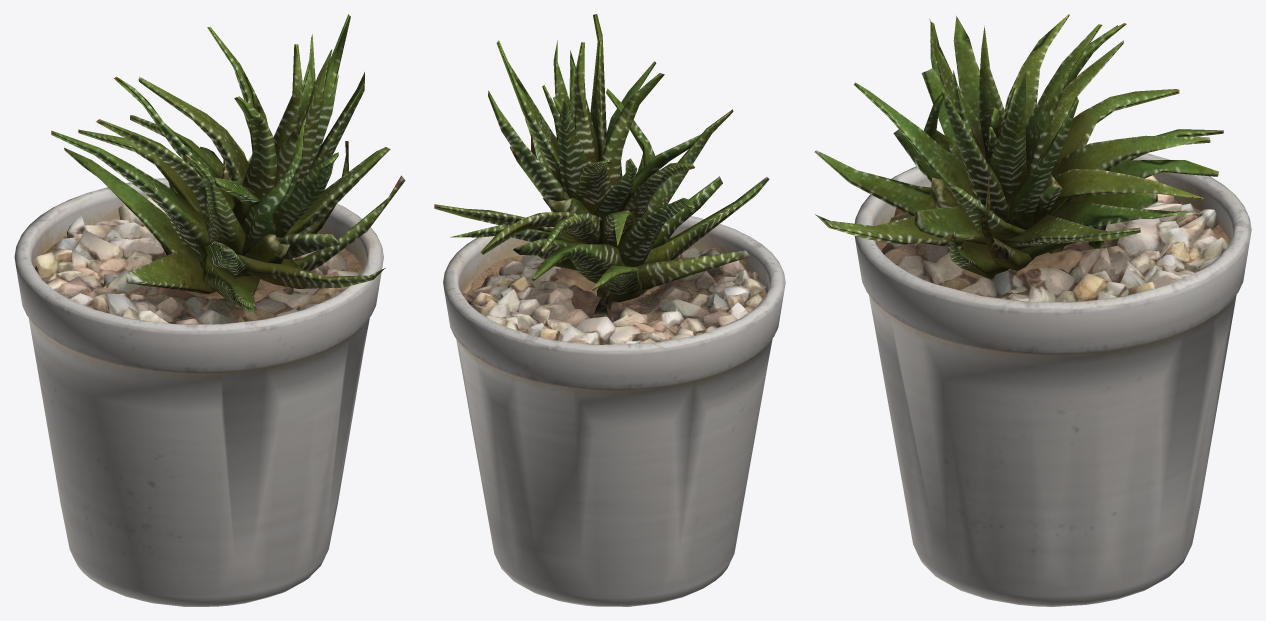
File: ph-potted-plant-04-lite.glb
3 renders of one model, left to right at view 1: azimuth 30°, elevation 25°; view 2: azimuth 150°, elevation 25°; view 3: azimuth 270°, elevation 25°, orthographic. The views are drawn at different scales.
Parts seen in each view (by area): view 1: potted_plant_04_pot, potted_plant_04_plant, potted_plant_04_ground, potted_plant_04_dirt; view 2: potted_plant_04_pot, potted_plant_04_plant, potted_plant_04_ground, potted_plant_04_dirt; view 3: potted_plant_04_pot, potted_plant_04_plant, potted_plant_04_ground, potted_plant_04_dirt.
Part boxes in pixels (x1,y1,x2,y2): potted_plant_04_pot: [14, 178, 383, 606]; potted_plant_04_plant: [51, 14, 405, 311]; potted_plant_04_ground: [34, 196, 358, 324]; potted_plant_04_dirt: [35, 236, 362, 308]; potted_plant_04_pot: [443, 216, 785, 606]; potted_plant_04_plant: [434, 14, 769, 315]; potted_plant_04_ground: [462, 247, 766, 344]; potted_plant_04_dirt: [462, 247, 766, 306]; potted_plant_04_pot: [854, 144, 1251, 606]; potted_plant_04_plant: [814, 14, 1223, 279]; potted_plant_04_ground: [881, 175, 1228, 302]; potted_plant_04_dirt: [875, 199, 1229, 296].
Bounding box in the file's own units: 0.1679 × 0.2672 × 0.1845.
Materials: 1 (1 with a texture image).
